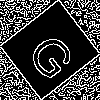G: (25, 24, 85, 84)
